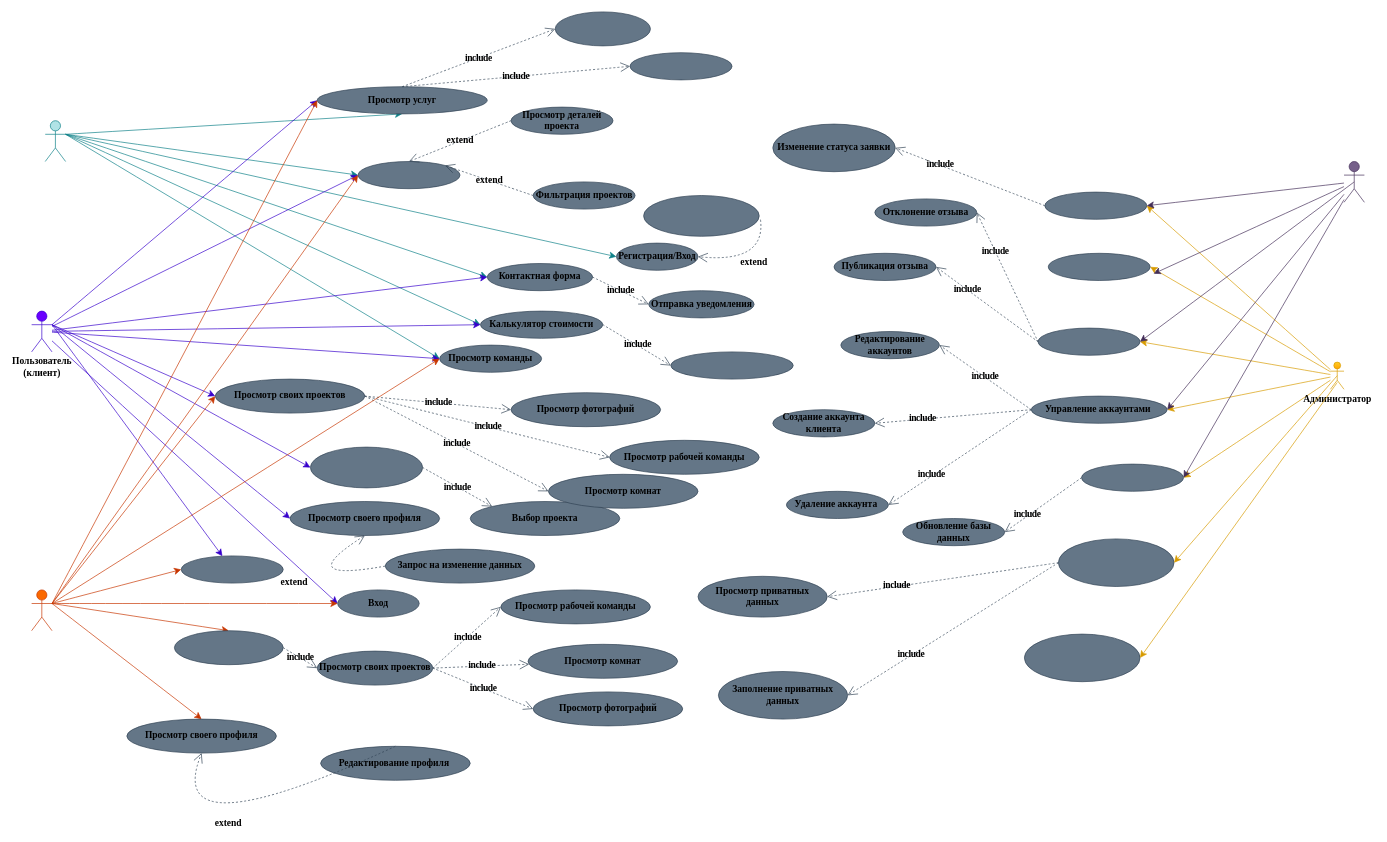
This 1387x842 diagram has some shape labels left out. The shapes that lost their labels are listed below. From the top down, each one's box as (x1, y1, x2, y2) in pixels, then its label:
(555, 11, 650, 46): Услуги дизайна
(629, 52, 732, 80): Услуги архитектуры
(45, 120, 66, 162): Неавторизованный пользователь
(357, 161, 460, 189): Просмотр проектов
(1343, 161, 1364, 202): Менеджер
(643, 195, 759, 236): Восстановление пароля
(1044, 191, 1147, 219): Просмотр заявок
(1048, 253, 1150, 280): Назначение команды на проект
(1037, 327, 1140, 355): Модерация отзывов
(670, 351, 793, 379): Расчет стоимости
(310, 446, 423, 488): Создание отзыва
(1081, 463, 1184, 491): Управление проектами
(181, 555, 283, 583): Выход из системы
(1058, 538, 1174, 586): Приватные данные
(31, 589, 52, 631): Пользователь (сотрудник)
(174, 630, 283, 665): Загрузка файлов проекта
(1024, 633, 1140, 682): Управление ролями
